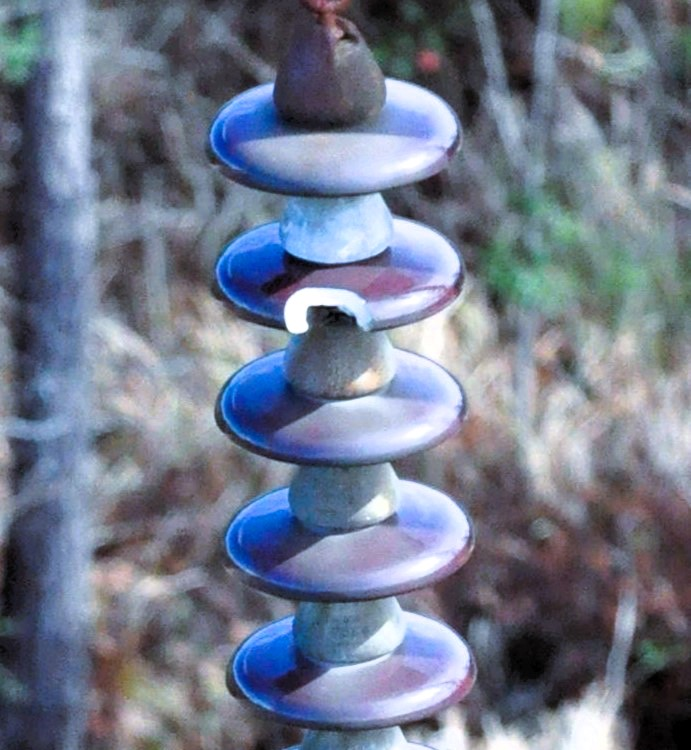insulator breakage: (194, 208, 471, 340)
